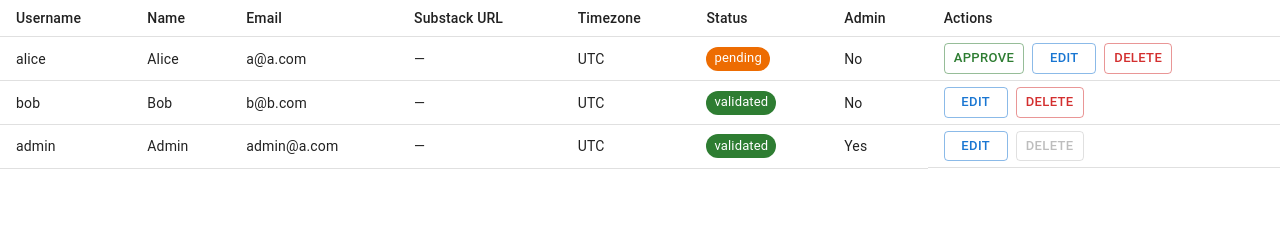
Test: UserTable › shows error alert when Approve returns 4xx
Expected: the text "alice" is shown, [0, 36, 131, 81]
Click the button "Approve": (984, 58) [944, 43, 1024, 74]
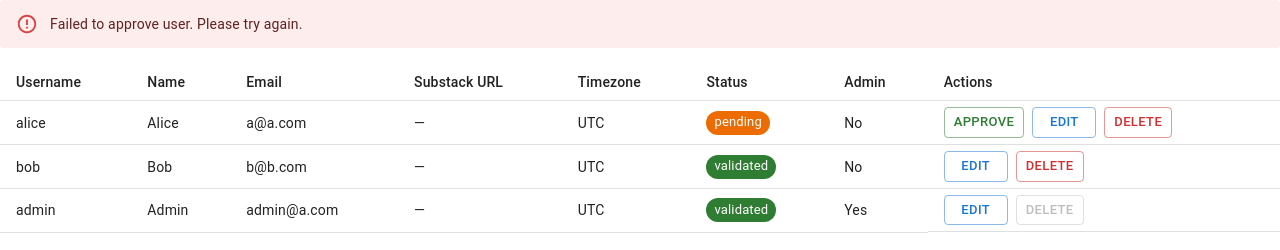
Now the text "Failed to approve user. Please try again." is shown, box [50, 16, 302, 32]
